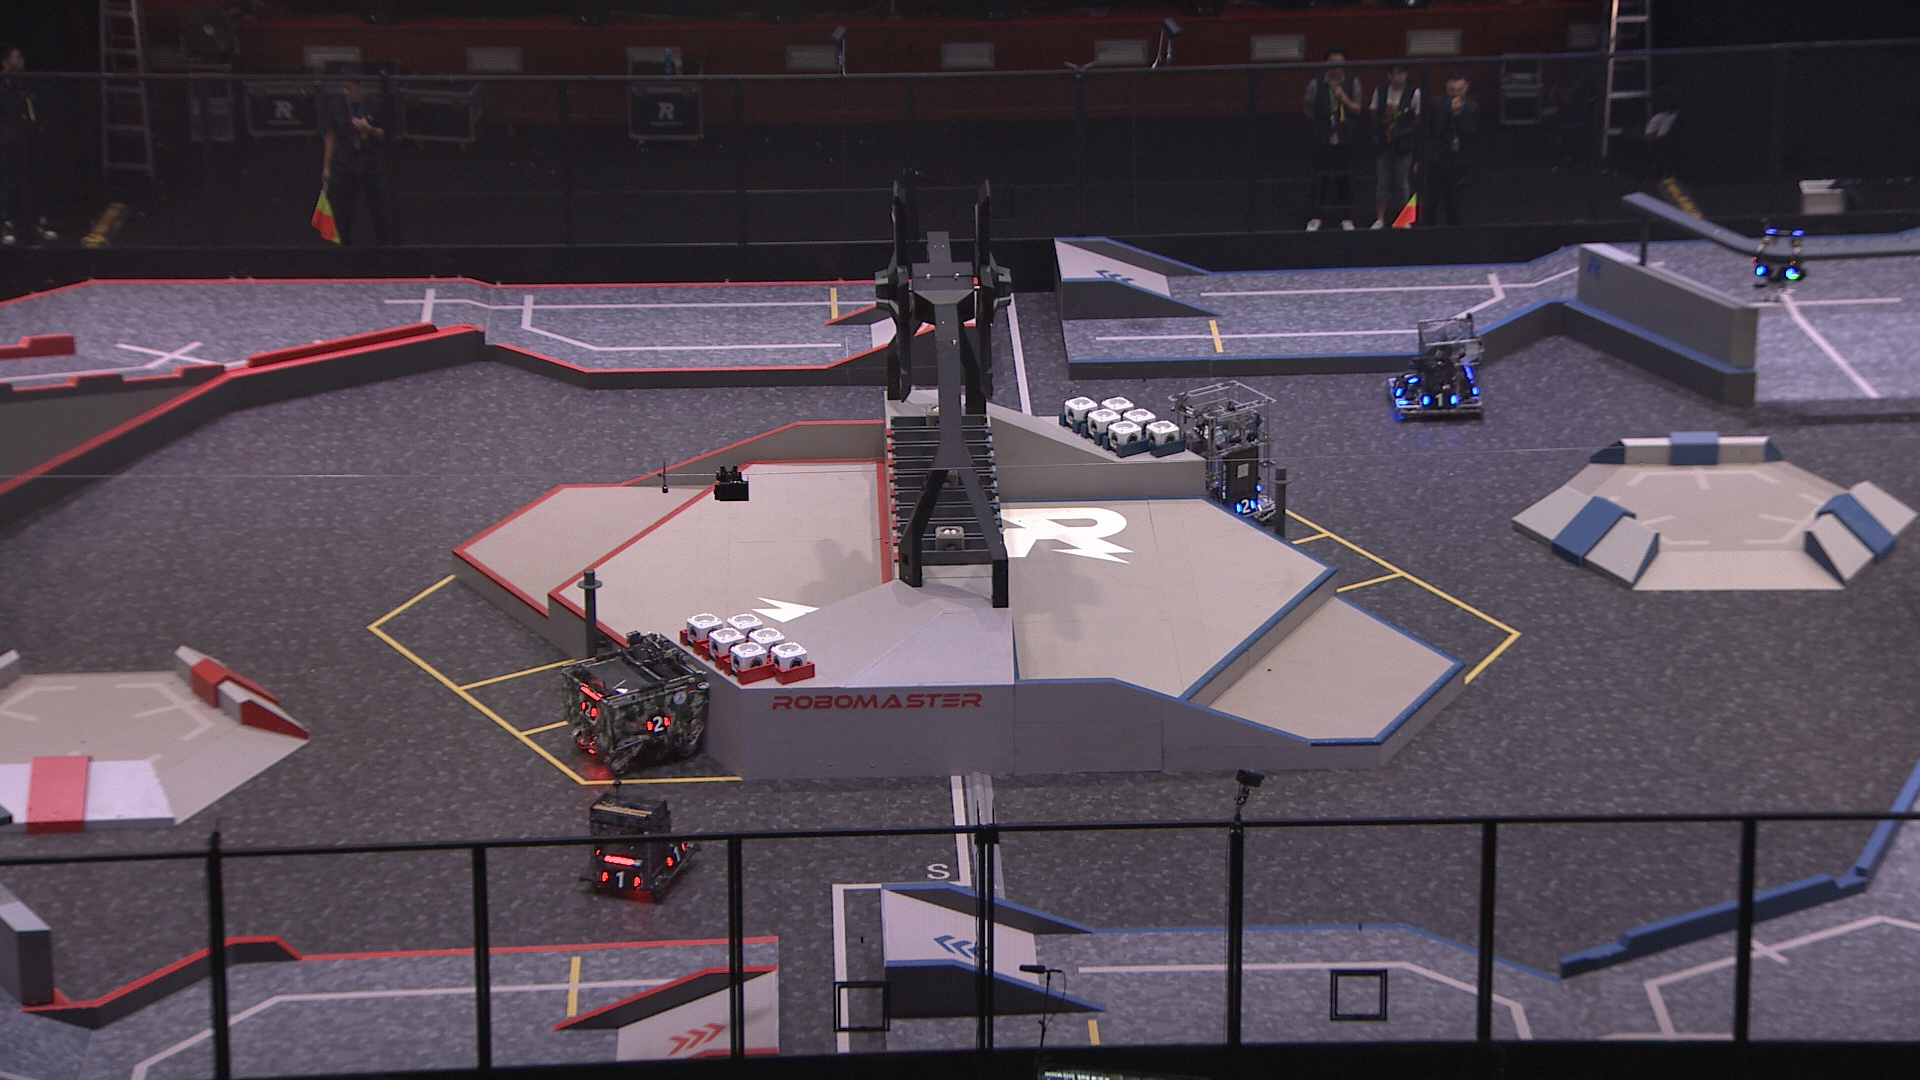armor: (1753, 262, 1797, 282), (597, 868, 641, 887), (1422, 392, 1460, 411), (665, 839, 688, 864), (644, 712, 670, 732), (1234, 498, 1259, 516), (579, 700, 600, 719), (1387, 378, 1404, 400), (1403, 367, 1422, 385)
car: (560, 626, 711, 774), (1162, 378, 1280, 527), (574, 785, 707, 897), (1385, 315, 1494, 422)
watcher: (1746, 218, 1813, 306)
